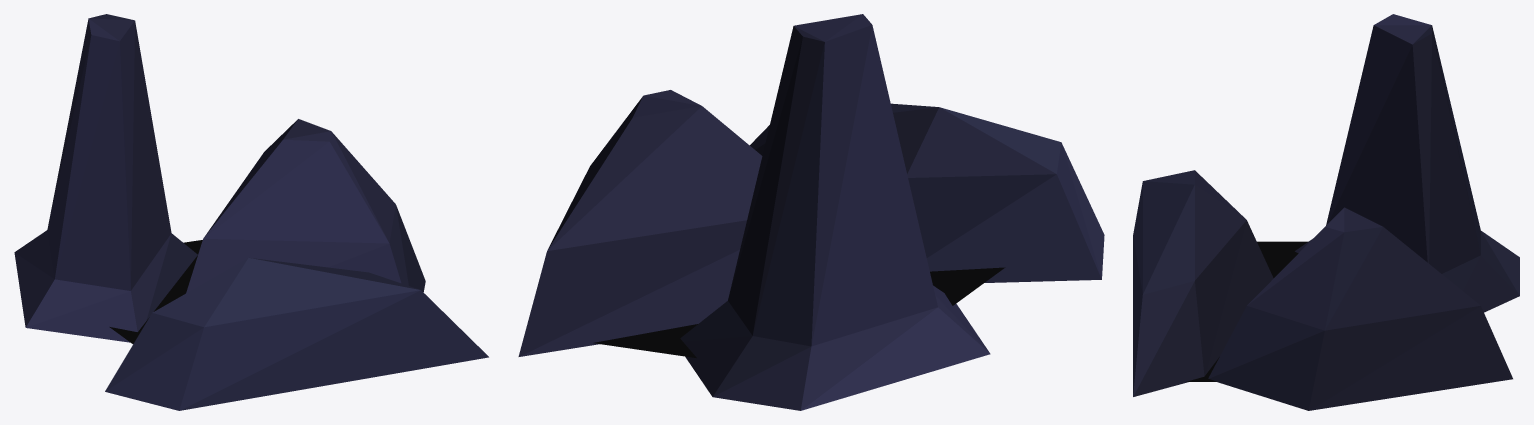
Rendered from rune-rocks.obj.
3 renders of one model, left to right at view 1: azimuth 30°, elevation 25°; view 2: azimuth 150°, elevation 25°; view 3: azimuth 270°, elevation 25°, orthographic. The views are drawn at different scales.
Visible parts, largest first — view 1: Object Mithril rocks 2026-09-12_20-57-26; view 2: Object Mithril rocks 2026-09-12_20-57-26; view 3: Object Mithril rocks 2026-09-12_20-57-26.
Boxes of the visible parts, x1,y1,x2,y2 form: Object Mithril rocks 2026-09-12_20-57-26: [14, 14, 488, 410]; Object Mithril rocks 2026-09-12_20-57-26: [518, 14, 1104, 410]; Object Mithril rocks 2026-09-12_20-57-26: [1133, 14, 1519, 410].
Size of the model in its own units: 125 by 90 by 119.
